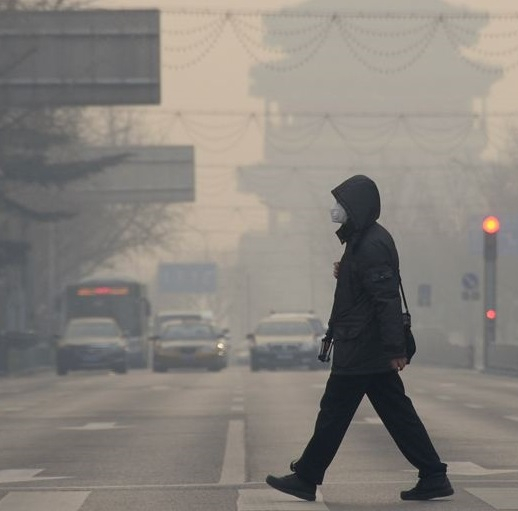person: (263, 170, 458, 503)
